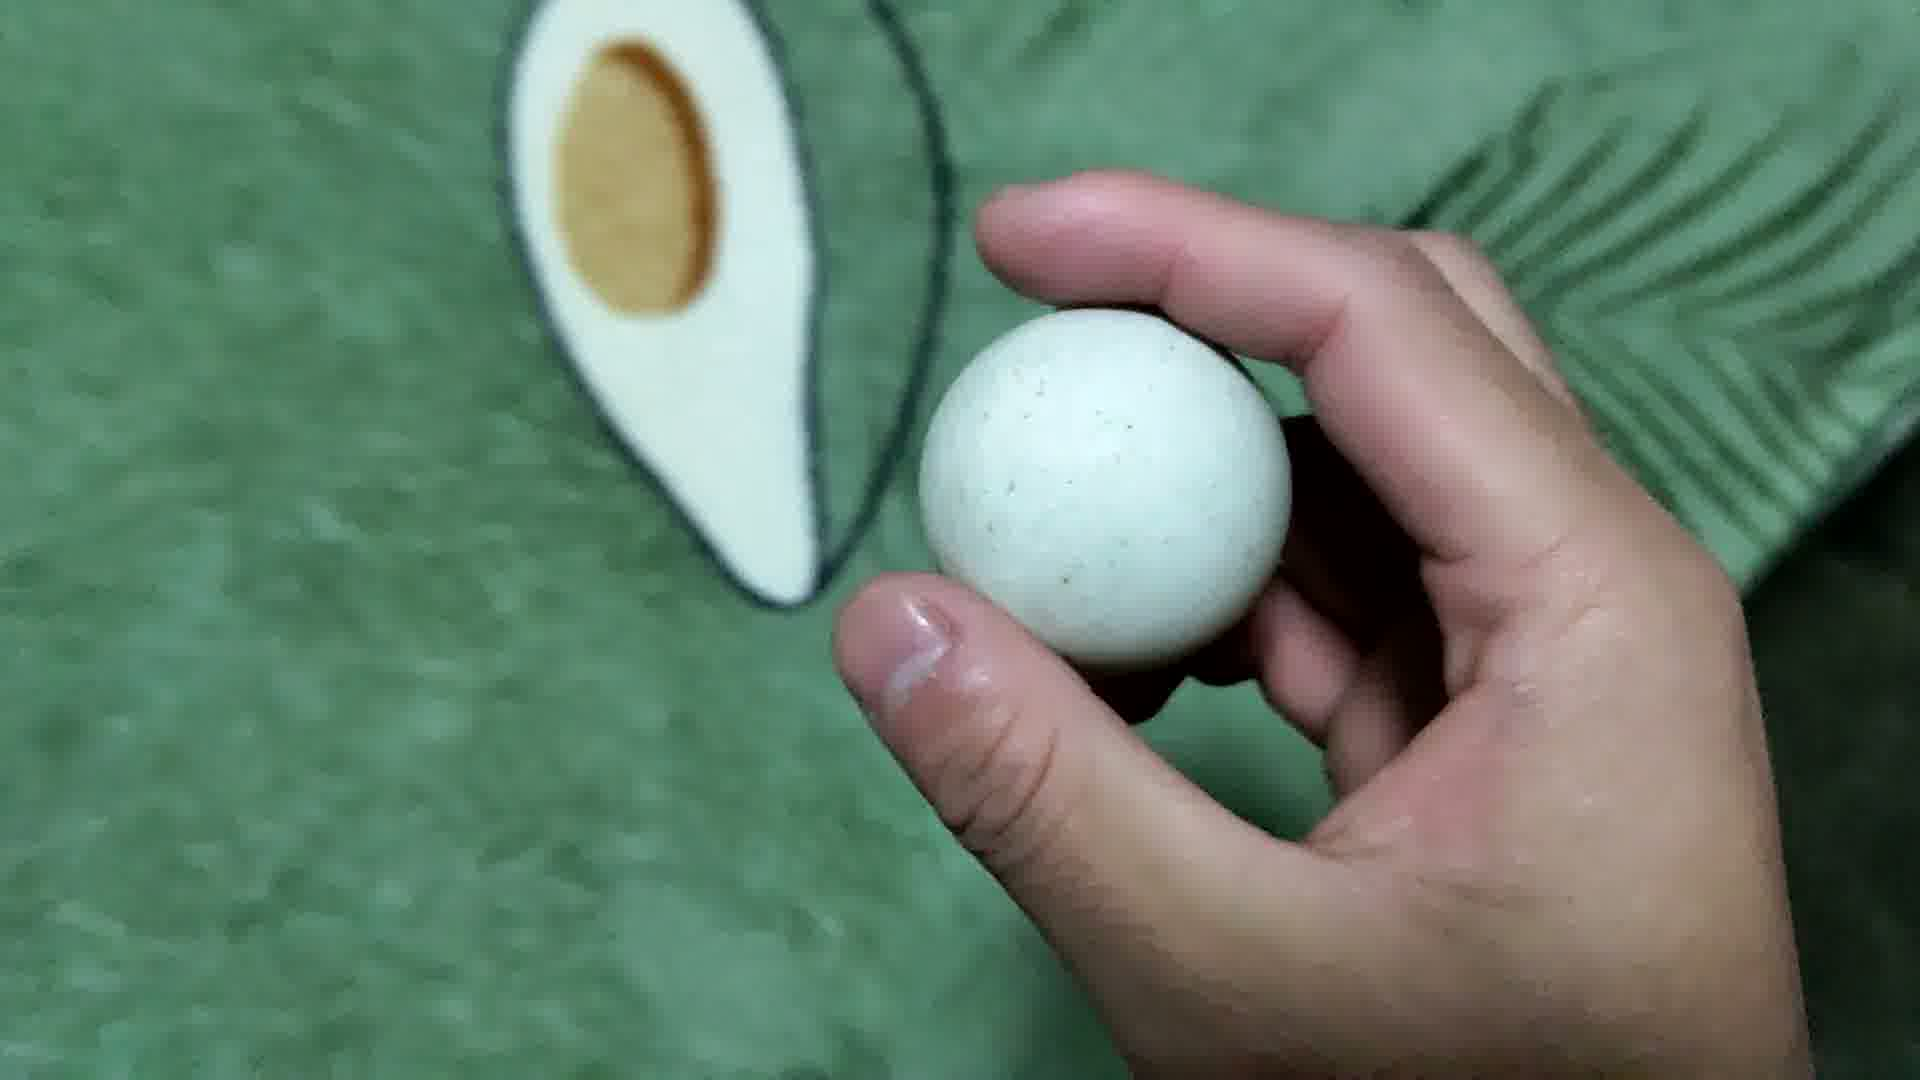Ball: (922, 301, 1294, 666)
